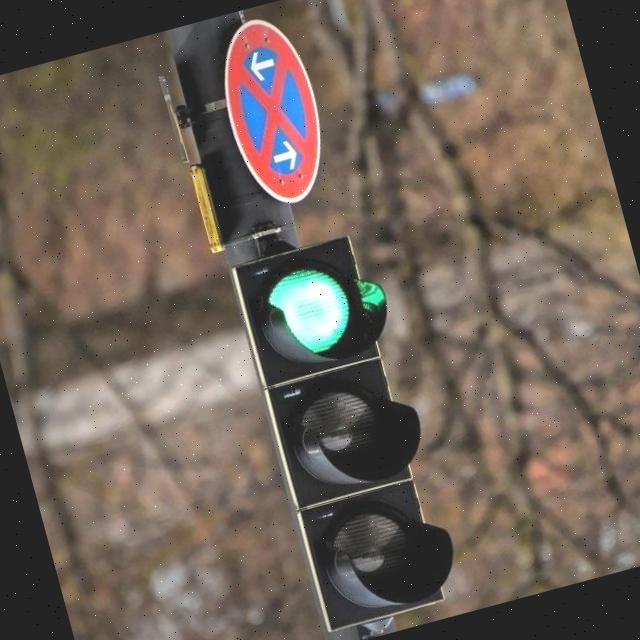green_light: (188, 214, 508, 640)
